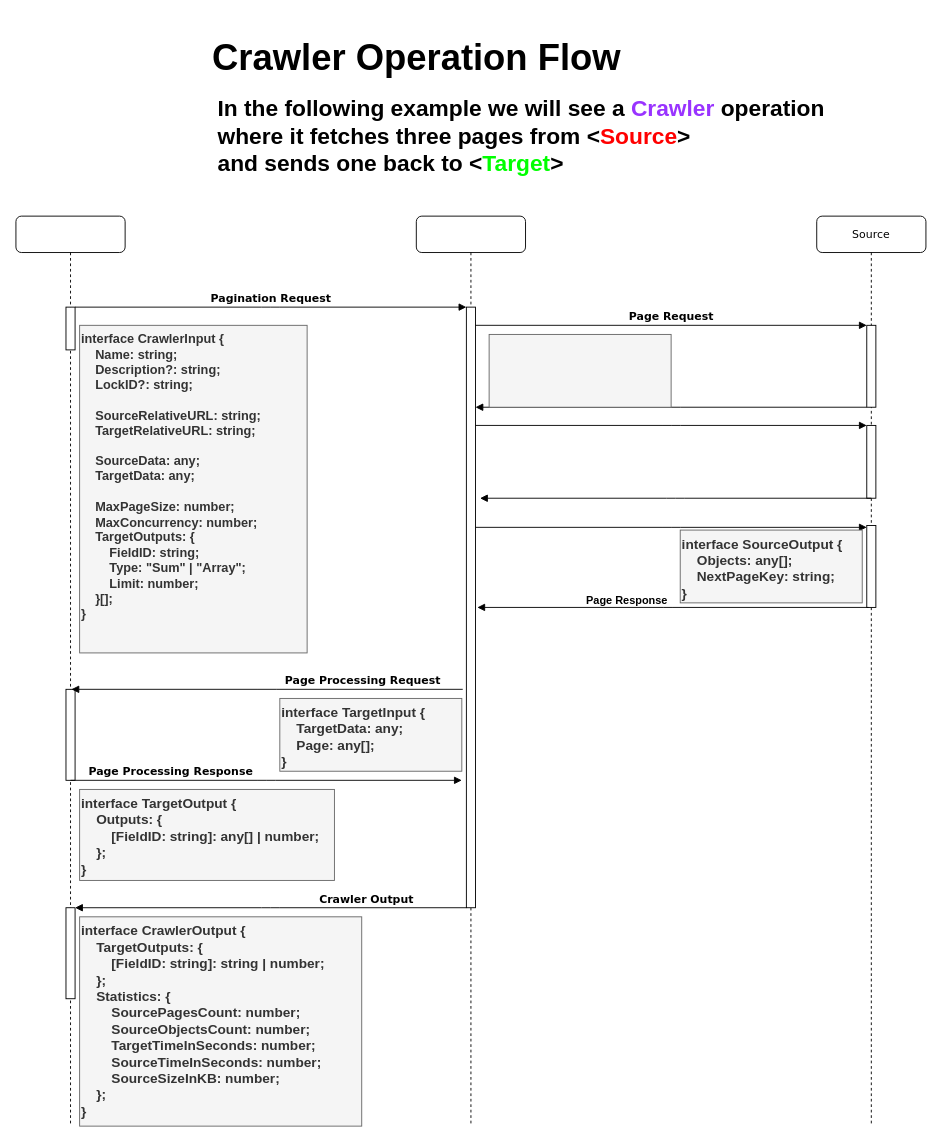
Image size: 942x1142. Some labels were removed from this diagram. The shapes that lost their labels are listed below. From the top down, each one's box as (x1, y1, x2, y2) in pixels, then its label:
(488, 334, 671, 407): interface SourceInput { PageKey: string; [key: string]: any; }
(15, 215, 125, 1126): Target
(415, 215, 526, 1126): Crawler
